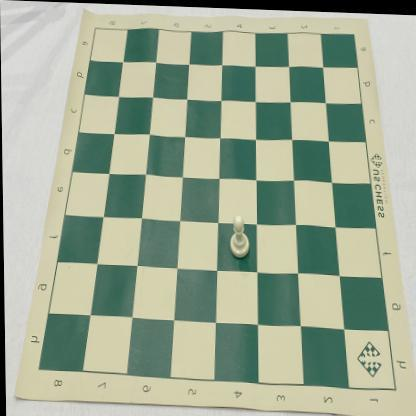white-pawn: (228, 212, 249, 258)
